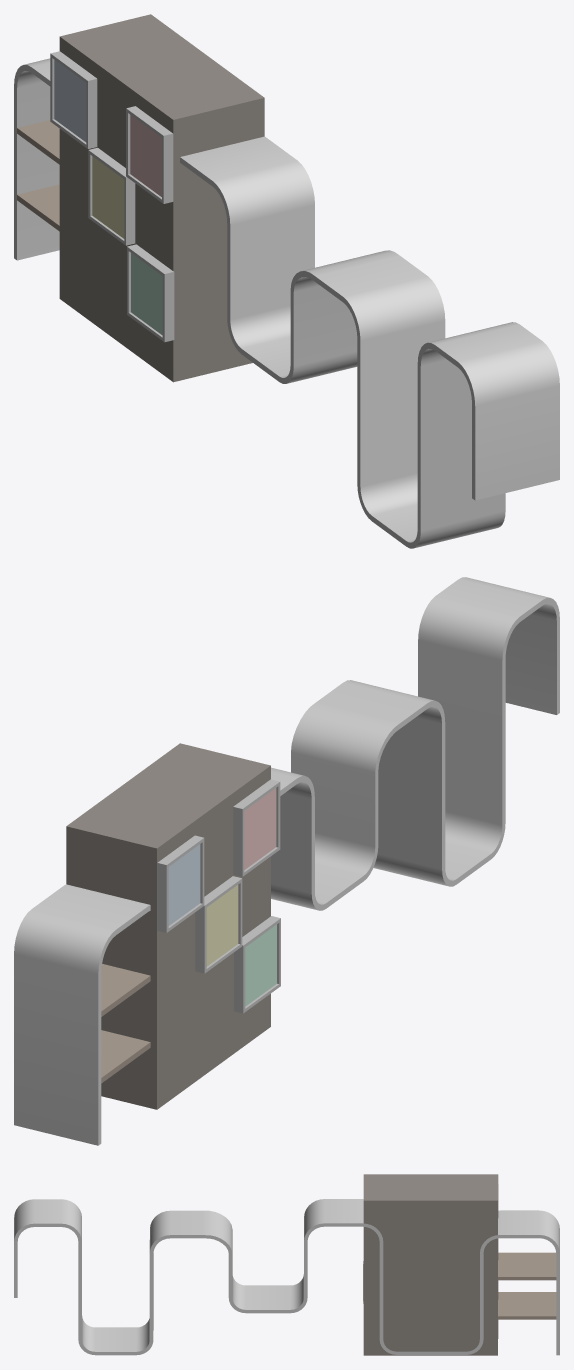
Rendered from 小柜子.fbx.
The picture shows the model from 3 angles, top to bottom: view 1: azimuth 30°, elevation 25°; view 2: azimuth 150°, elevation 25°; view 3: azimuth 270°, elevation 25°; orthographic projection. The views are drawn at different scales.
Parts seen in each view (by area): view 1: polySurface4; view 2: polySurface4; view 3: polySurface4.
Part boxes in pixels (bbox=[...]): polySurface4: bbox=[14, 14, 559, 548]; polySurface4: bbox=[14, 577, 559, 1145]; polySurface4: bbox=[14, 1174, 559, 1355].
Size of the model in its own units: 70.07 by 174 by 555.
